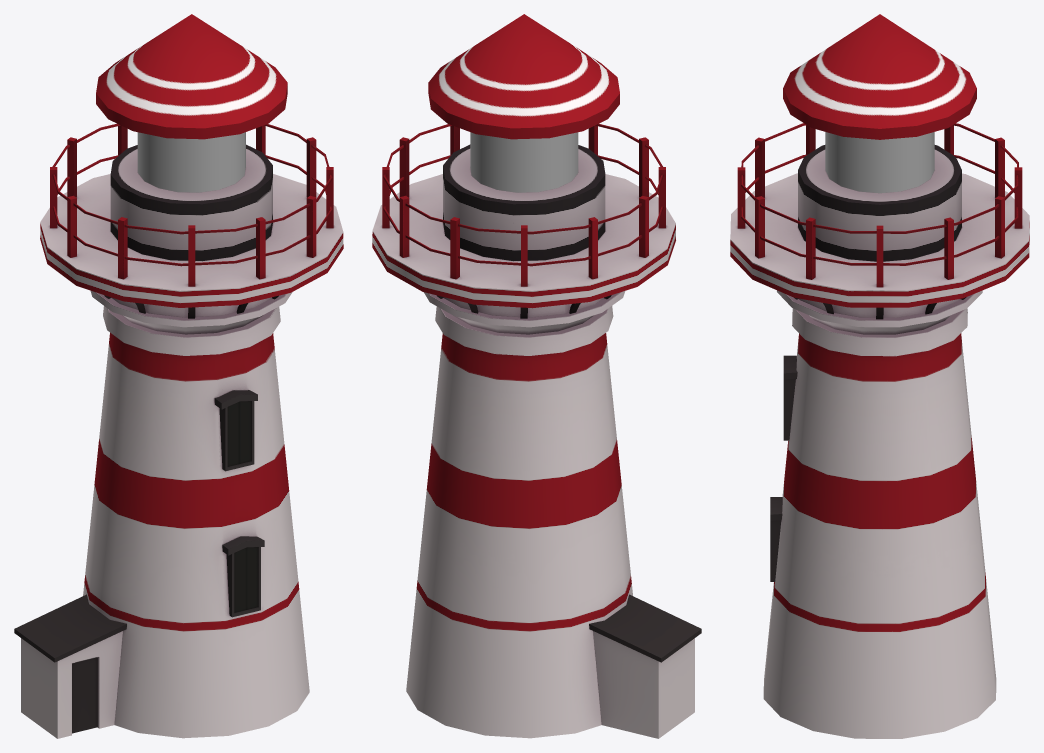
Rendered from Lighthouse.glb.
3 views of the same model, side by side, from view 1: azimuth 30°, elevation 25°; view 2: azimuth 150°, elevation 25°; view 3: azimuth 270°, elevation 25° (orthographic).
Parts seen in each view (by area): view 1: lighthouse_01, lighthouse_glass; view 2: lighthouse_01, lighthouse_glass; view 3: lighthouse_01, lighthouse_glass.
Boxes of the visible parts, bbox=[...] form: lighthouse_01: bbox=[14, 14, 343, 738]; lighthouse_glass: bbox=[137, 132, 245, 192]; lighthouse_01: bbox=[372, 14, 701, 738]; lighthouse_glass: bbox=[470, 132, 578, 192]; lighthouse_01: bbox=[730, 14, 1029, 738]; lighthouse_glass: bbox=[825, 132, 934, 193].
Size of the model in its own units: 3.81 by 8.57 by 3.45.
3 materials, 1 textured.
